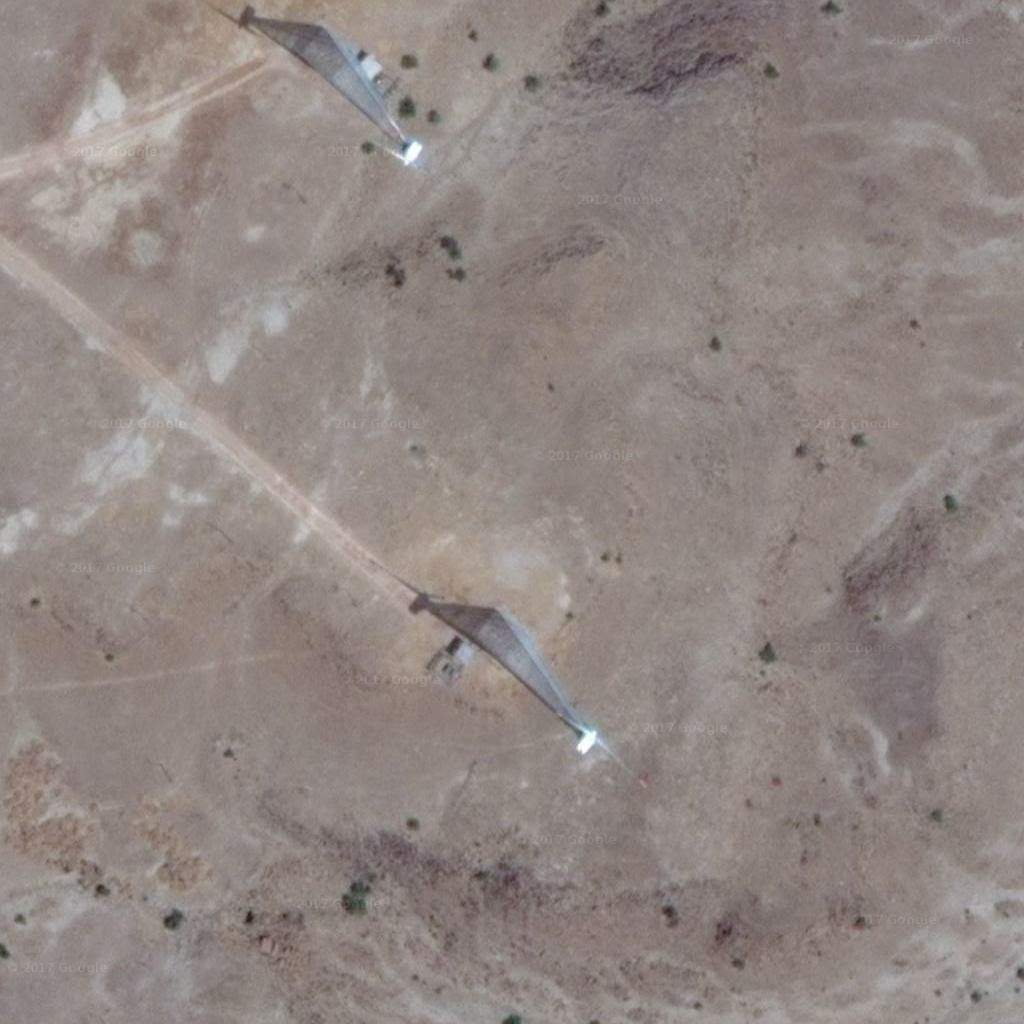Windmill: (225, 1, 420, 166)
